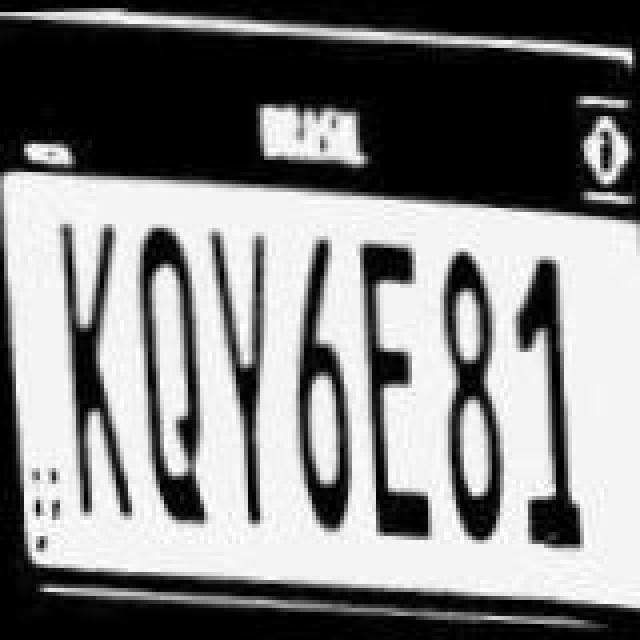1: (500, 254, 584, 562)
6: (280, 236, 352, 552)
8: (432, 242, 504, 550)
E: (348, 236, 428, 548)
K: (52, 218, 132, 534)
Q: (122, 222, 206, 542)
Y: (202, 218, 278, 534)
